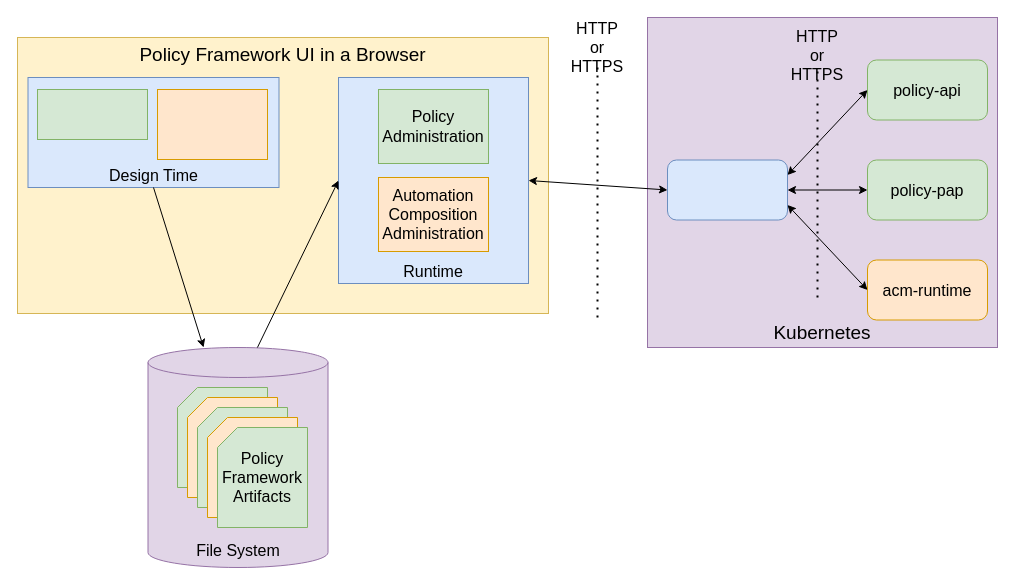
The diagram is 1015 pixels wide and 585 high, and some of its shapes have lost their labels. The shapes that lost their labels are listed below. From the top down, each one's centre as x and y in pixels, then its label:
At [92,114]: "Policy Editors".
At [212,124]: "Automation Composition Editors".
At [727,189]: "gui-server".
